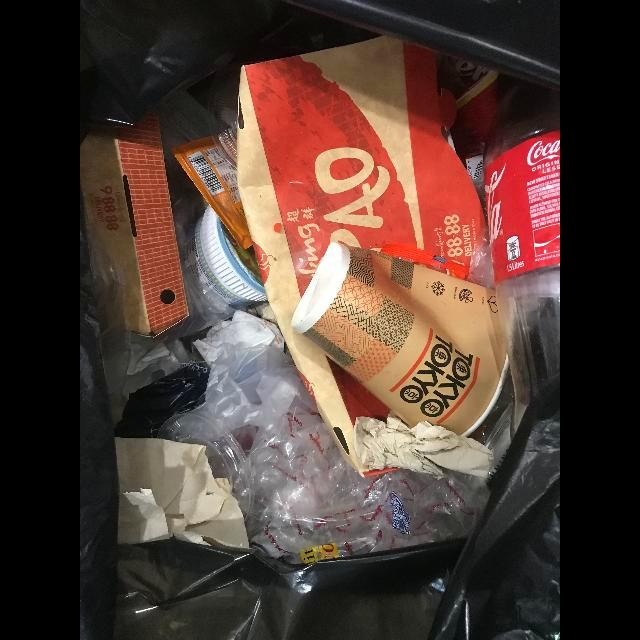cardboard: (237, 36, 486, 478), (80, 102, 189, 338)
paper: (291, 241, 508, 437), (114, 437, 257, 554), (354, 414, 494, 480)
plastic_bag: (245, 397, 491, 566), (184, 346, 322, 456)
plastic_bottle: (483, 76, 560, 442)
